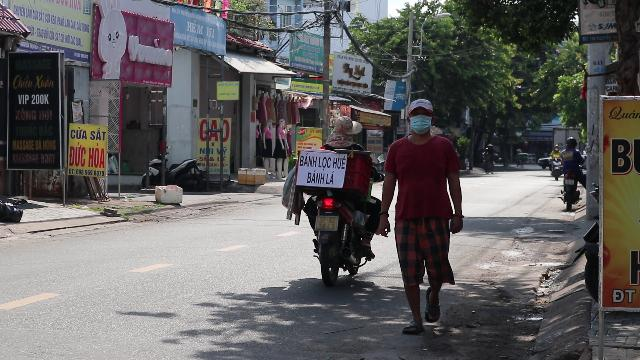licenseplate: (315, 216, 337, 230)
motorcyclist: (280, 115, 380, 285)
nohelmet: (328, 116, 364, 146)
